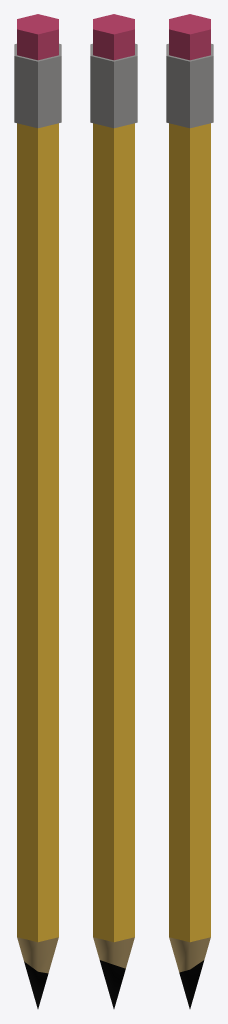
Rendered from Pencil.fbx.
3 views of the same model, side by side, from view 1: azimuth 90°, elevation 25°; view 2: azimuth 150°, elevation 25°; view 3: azimuth 270°, elevation 25° (orthographic).
Parts seen in each view (by area): view 1: Pencil; view 2: Pencil; view 3: Pencil.
Part boxes in pixels (<box>): Pencil: <box>14,14,61,1008</box>; Pencil: <box>90,14,137,1008</box>; Pencil: <box>166,14,213,1008</box>.
Bounding box in the file's own units: 0.2117 × 4.21 × 0.1833.
